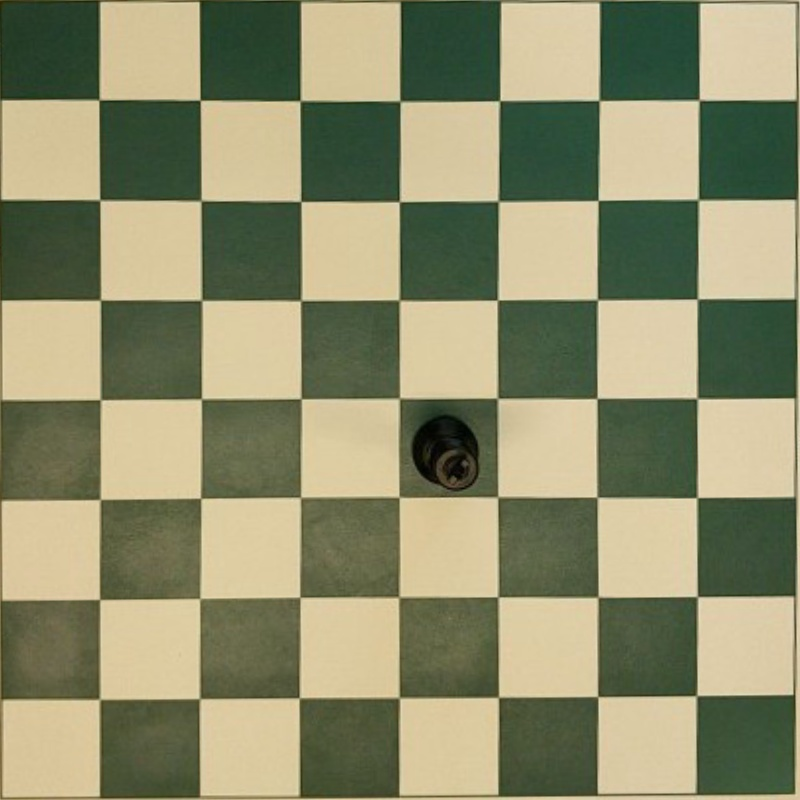black-king: (412, 414, 480, 491)
